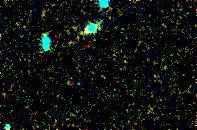star: (54, 67, 84, 97)
